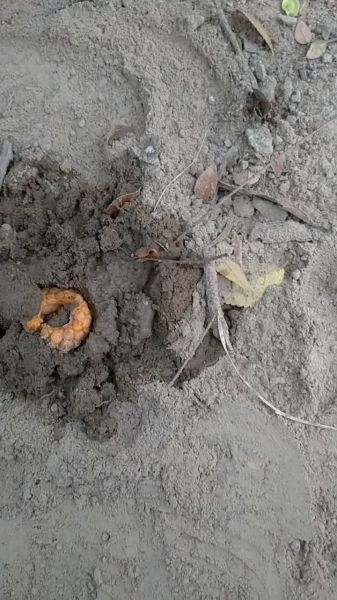eggs: (20, 283, 101, 354)
